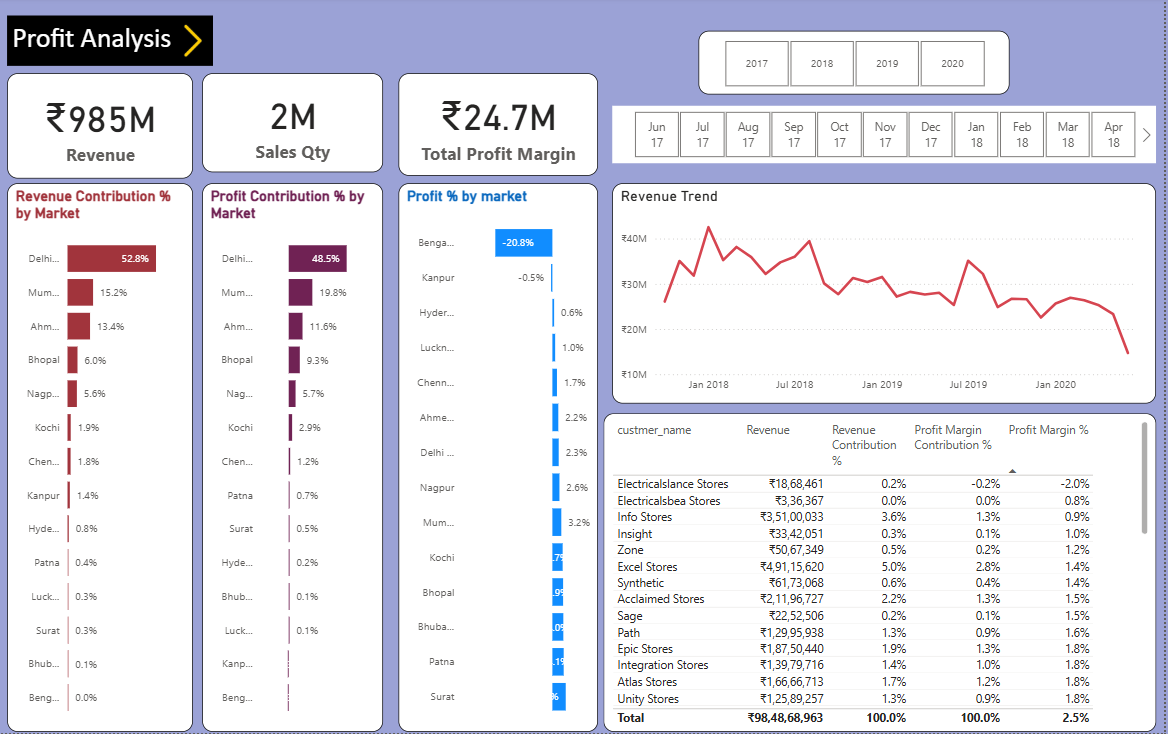

What the dashboard file says about the page in this screenshot:
{"tool":"powerbi","page":{"name":"Profit Analysis","canvas":[1350,850],"ordinal":1},"visuals":[{"type":"card","fields":{"Values":["BaseMeasures (2).Revenue"]},"box":[13,88.3,214.2,121.6],"z":0},{"type":"card","fields":{"Values":["BaseMeasures (2).Sales Qty"]},"box":[238.8,88.3,208.4,114.3],"z":1000},{"type":"barChart","title":"Profit % by market","fields":{"Y":["BaseMeasures (2).Profit Margin %"],"Category":["sales markets.markets_name"]},"box":[464.6,215.6,230.1,633.9],"z":2000},{"type":"barChart","title":"Profit Contribution % by Market","fields":{"Y":["BaseMeasures (2).Profit Margin Contribution %"],"Category":["sales markets.markets_name"]},"box":[238.8,215.6,208.4,633.9],"z":3000},{"type":"slicer","fields":{"Values":["sales date.year"]},"box":[811.9,39.1,358.9,73.8],"z":4000},{"type":"slicer","fields":{"Values":["sales date.cy_date"]},"box":[712.1,125.9,628.1,66.6],"z":5000},{"type":"tableEx","title":"Top 5 Customers","fields":{"Values":["sales customers.custmer_name","BaseMeasures (2).Revenue","BaseMeasures (2).Revenue Contribution %","BaseMeasures (2).Profit Margin Contribution %","BaseMeasures (2).Profit Margin %"]},"box":[701.6,480.7,638.1,368.1],"z":6000},{"type":"lineChart","title":"Revenue Trend","fields":{"Y":["BaseMeasures (2).Revenue"],"Category":["sales date.cy_date"]},"box":[711.7,215.1,628,254.1],"z":7000},{"type":"card","fields":{"Values":["BaseMeasures (2).Total Profit Margin"]},"box":[464.6,88.3,230.1,118.7],"z":8000},{"type":"barChart","title":"Revenue Contribution % by Market","fields":{"Y":["BaseMeasures (2).Revenue Contribution %"],"Category":["sales markets.markets_name"]},"box":[13,215.6,214.2,633.9],"z":9000},{"type":"textbox","box":[13,21.7,237.4,57.9],"z":10000},{"type":"image","box":[128.8,24.6,195.4,50.7],"z":11000}]}

Visuals, with their boxes in screenshot pixels (x1, y1, x2, y2), scaled from the page's 1350x850 canvas onto the 1168x734 screenshot:
card - BaseMeasures (2).Revenue: BBox(11, 76, 197, 181)
card - BaseMeasures (2).Sales Qty: BBox(207, 76, 387, 175)
"Profit % by market" barChart: BBox(402, 186, 601, 733)
"Profit Contribution % by Market" barChart: BBox(207, 186, 387, 733)
slicer - sales date.year: BBox(702, 34, 1013, 97)
slicer - sales date.cy_date: BBox(616, 109, 1160, 166)
"Top 5 Customers" tableEx: BBox(607, 415, 1159, 733)
"Revenue Trend" lineChart: BBox(616, 186, 1159, 405)
card - BaseMeasures (2).Total Profit Margin: BBox(402, 76, 601, 179)
"Revenue Contribution % by Market" barChart: BBox(11, 186, 197, 733)
textbox: BBox(11, 19, 217, 69)
image: BBox(111, 21, 280, 65)
